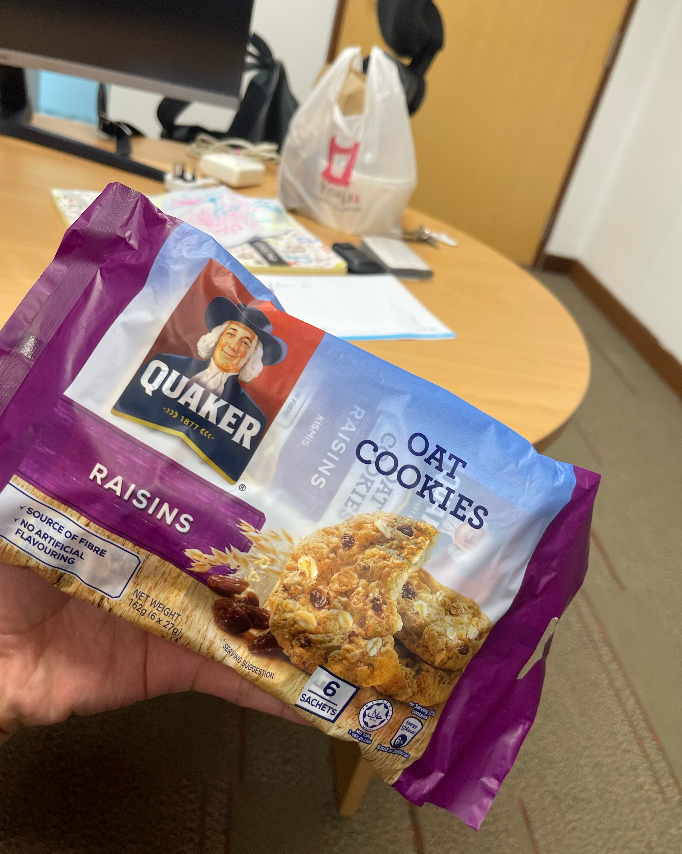cookies_100g-199g: (121, 338, 451, 725)
